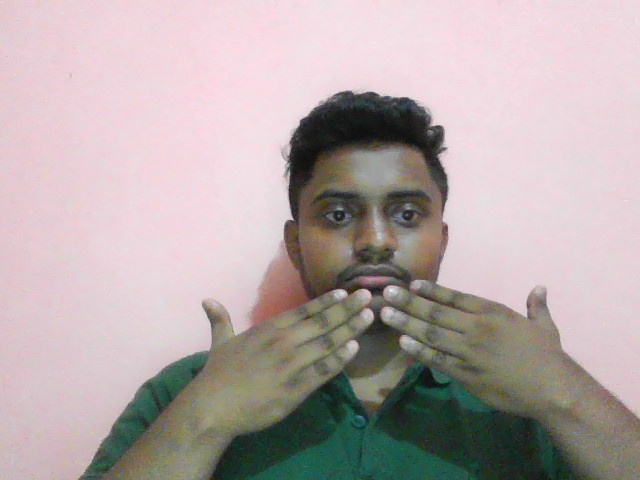Thank You: (136, 269, 616, 439)
